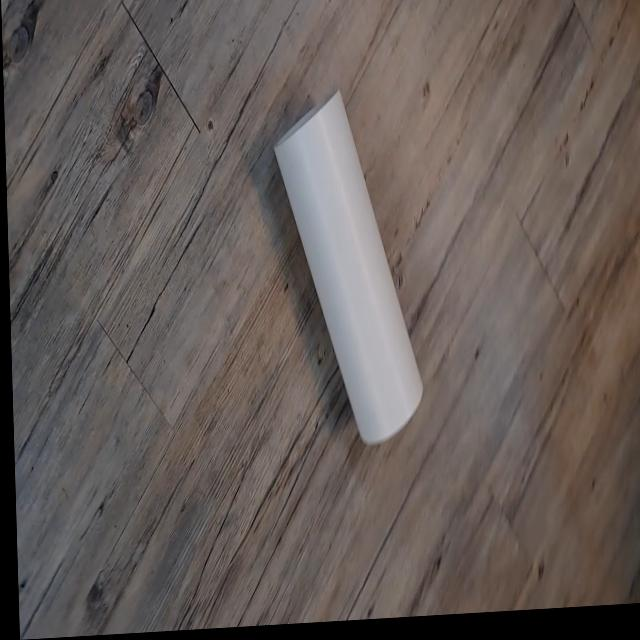CORAL: (253, 89, 432, 461)
